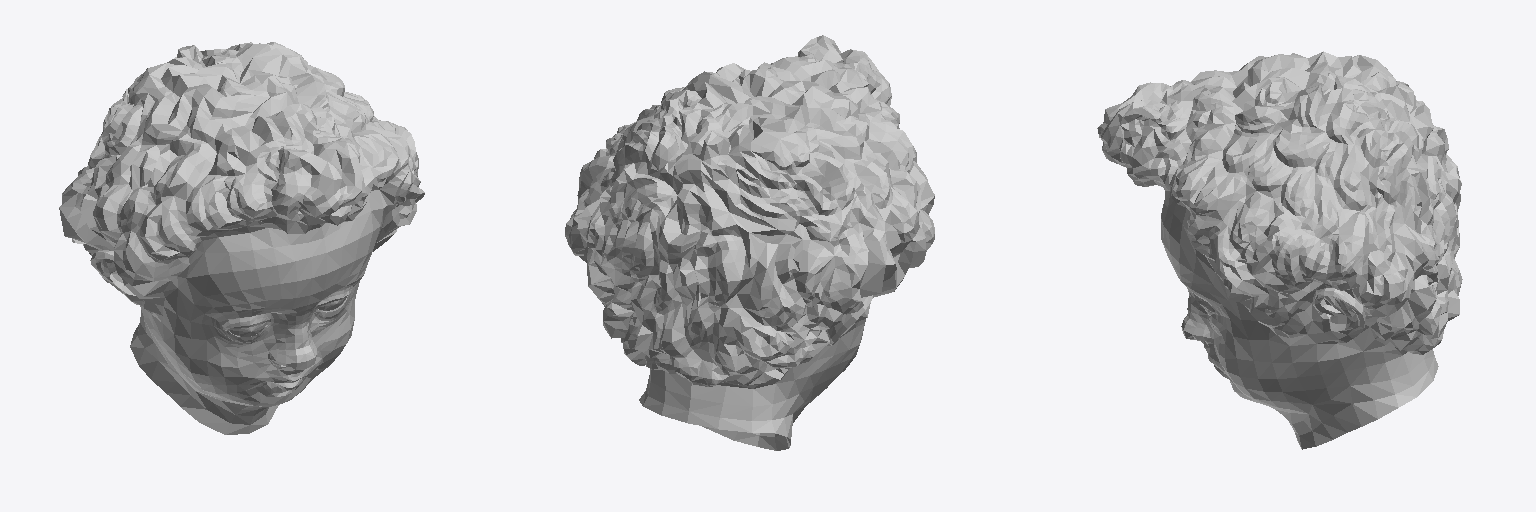
The model's file is Jesus_Unity.obj.
3 views of the same model, side by side, from view 1: azimuth 30°, elevation 25°; view 2: azimuth 150°, elevation 25°; view 3: azimuth 270°, elevation 25° (orthographic).
Visible parts, largest first — view 1: JesusHead_Plane.002; view 2: JesusHead_Plane.002; view 3: JesusHead_Plane.002.
Part boxes in pixels (bbox=[...]): JesusHead_Plane.002: bbox=[59, 42, 424, 434]; JesusHead_Plane.002: bbox=[565, 35, 934, 450]; JesusHead_Plane.002: bbox=[1097, 51, 1462, 449].
Size of the model in its own units: 2.55 by 2.84 by 2.54.